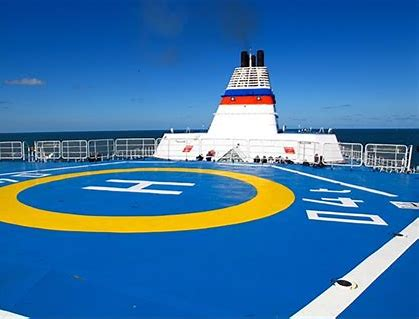H: (82, 179, 196, 196)
